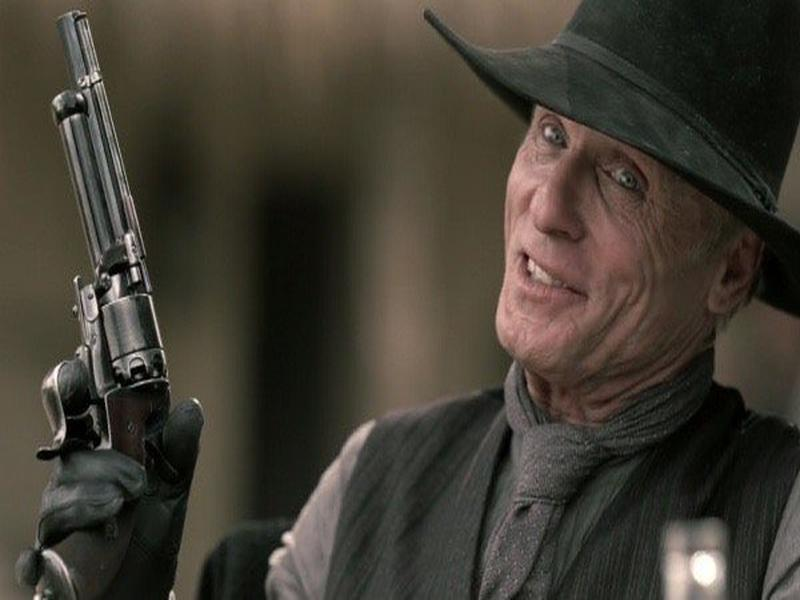Revolver: (20, 1, 177, 591)
